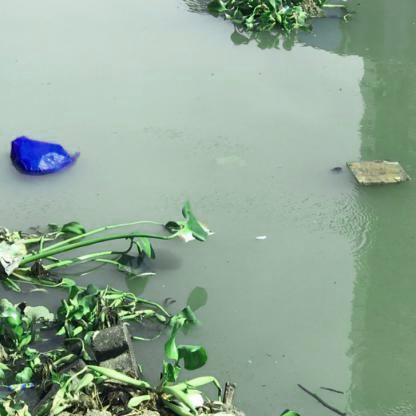Trash: (9, 131, 83, 177), (173, 214, 210, 242)
